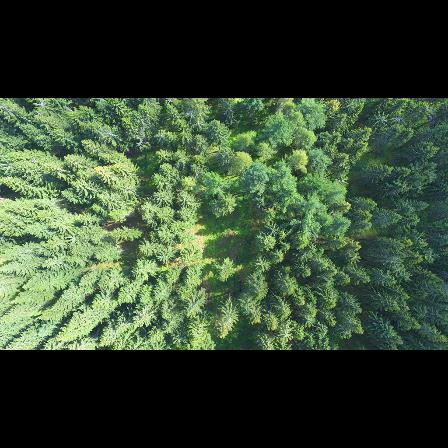Sick: (220, 311, 238, 329), (31, 98, 49, 111), (374, 111, 391, 124), (391, 263, 407, 276), (280, 327, 293, 341), (266, 222, 280, 234), (394, 112, 408, 122), (414, 182, 426, 193), (157, 128, 168, 140), (192, 119, 203, 129)
